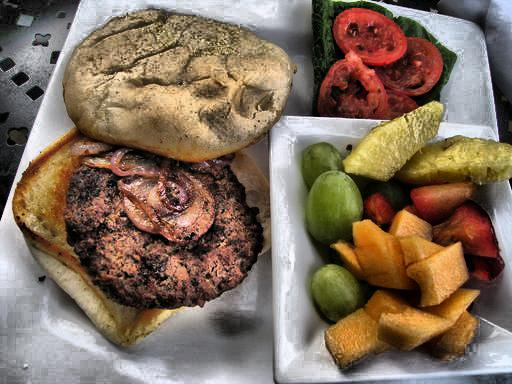burger: (28, 26, 256, 359)
